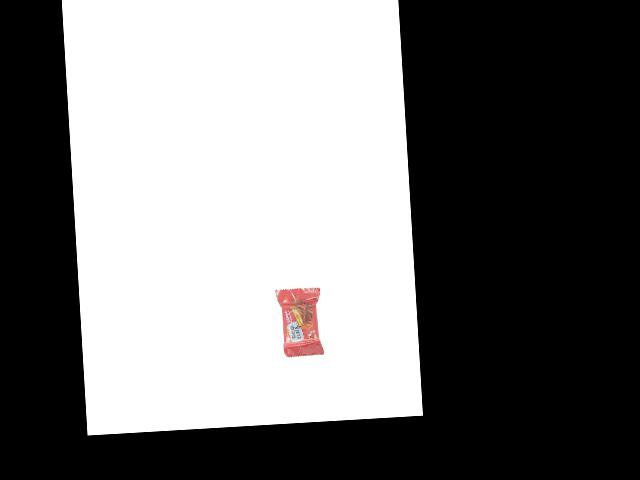chocolate: (270, 286, 323, 364)
